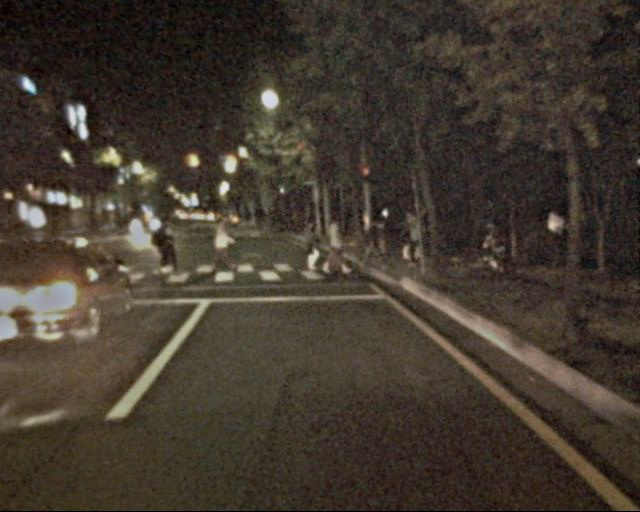person: (205, 211, 238, 279), (150, 211, 179, 281), (403, 209, 431, 273), (294, 212, 320, 276), (324, 214, 350, 277), (366, 212, 388, 274)
